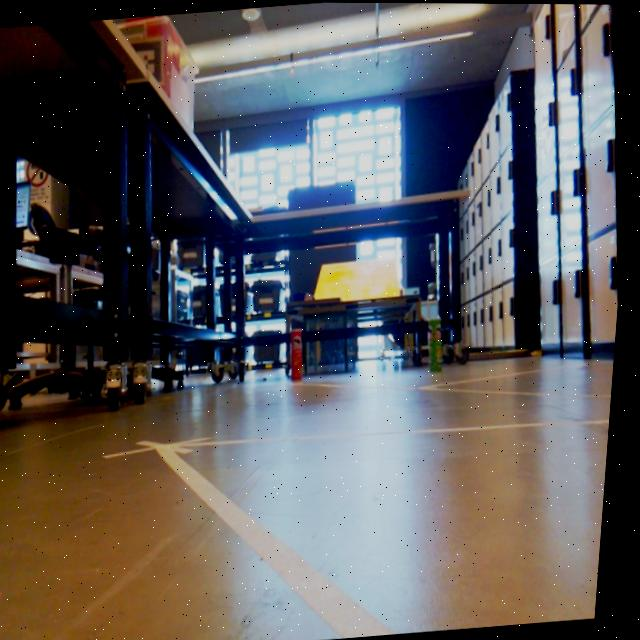greenpringles: (417, 309, 460, 379)
redpringles: (278, 313, 319, 389)
